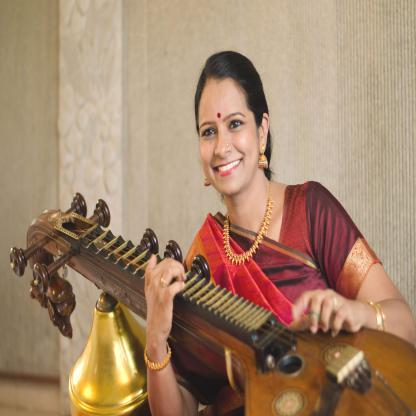Veena: (26, 200, 399, 409)
